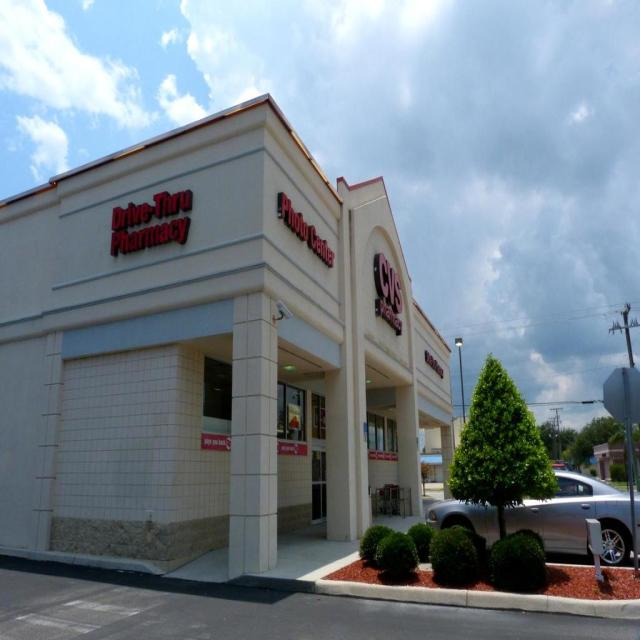car: (424, 467, 639, 568)
